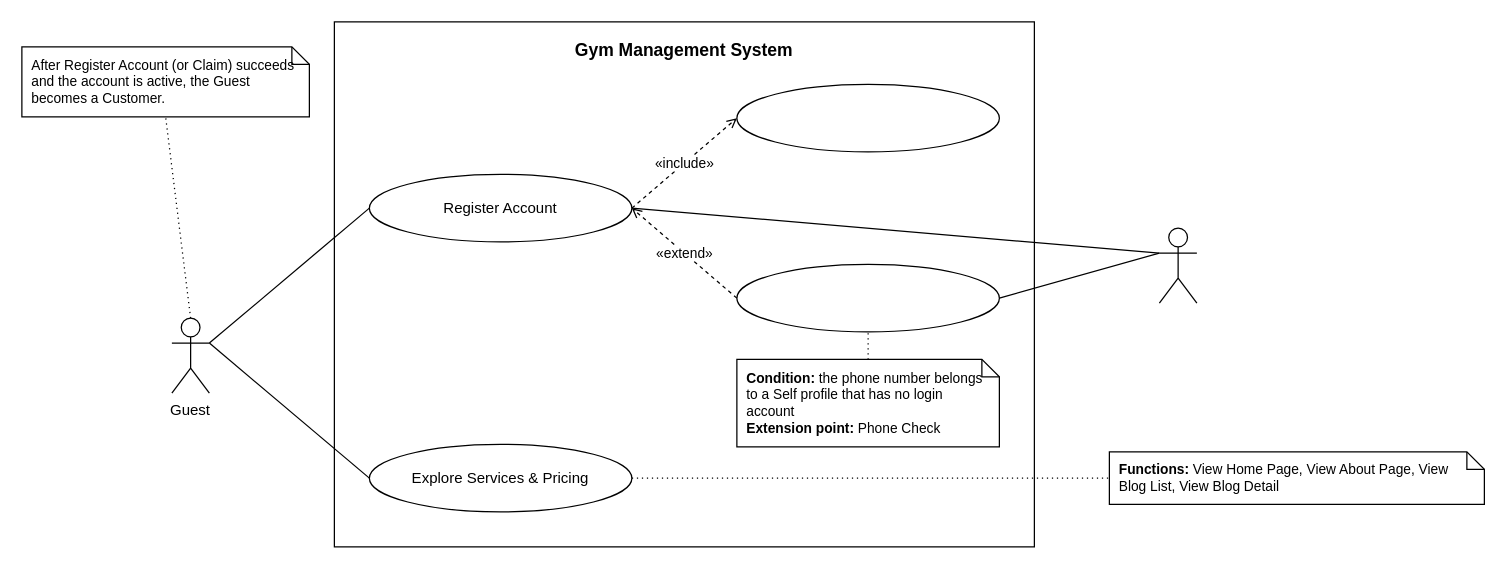
The diagram is 1506 pixels wide and 569 high, and some of its shapes have lost their labels. The box of each missing label's shape, as (x1, y1, x2, y2) in pixels:
Check Phone/Email Duplication & Identify Profile: (736, 83, 999, 152)
Claim An Existing Profile Via Verification Code: (736, 263, 999, 332)
«system» Email / OTP Service: (1158, 227, 1197, 303)
